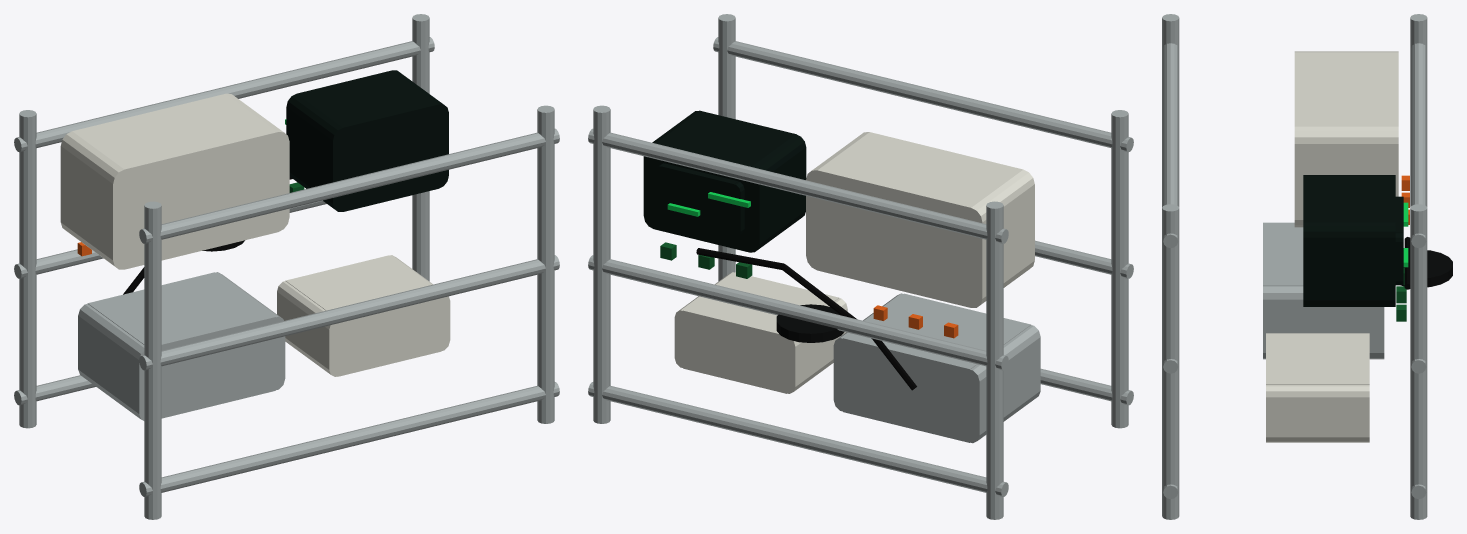
Rendered from ambulance_equipment_rack.obj.
3 views of the same model, side by side, from view 1: azimuth 30°, elevation 25°; view 2: azimuth 150°, elevation 25°; view 3: azimuth 270°, elevation 25° (orthographic).
Parts seen in each view (by area): view 1: ambulance_equipment_rack; view 2: ambulance_equipment_rack; view 3: ambulance_equipment_rack.
Boxes of the visible parts, x1,y1,x2,y2 form: ambulance_equipment_rack: [14, 14, 559, 519]; ambulance_equipment_rack: [588, 14, 1133, 519]; ambulance_equipment_rack: [1162, 14, 1452, 519].
Bounding box in the file's own units: 1.64 × 1.18 × 1.01.
